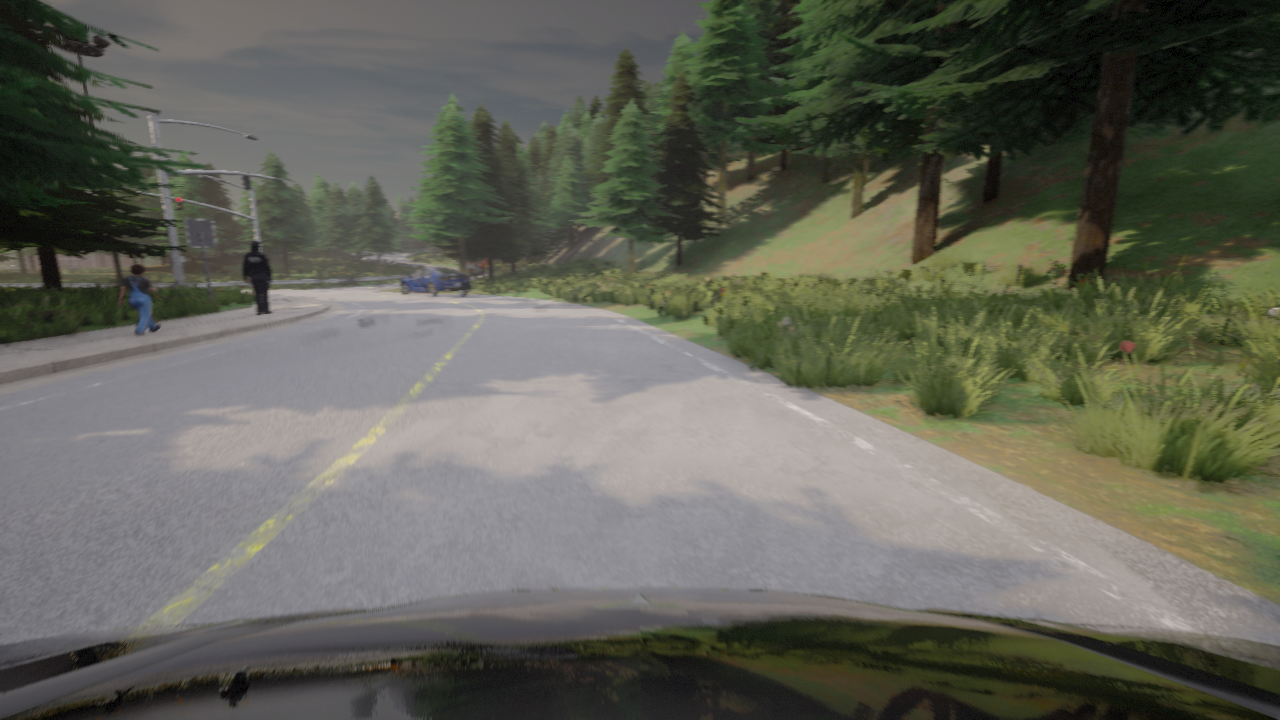cyclist: (0, 588, 1279, 719), (401, 267, 470, 297), (467, 258, 487, 272), (467, 264, 484, 278)
pedestrian: (118, 265, 161, 336), (243, 242, 272, 314)
